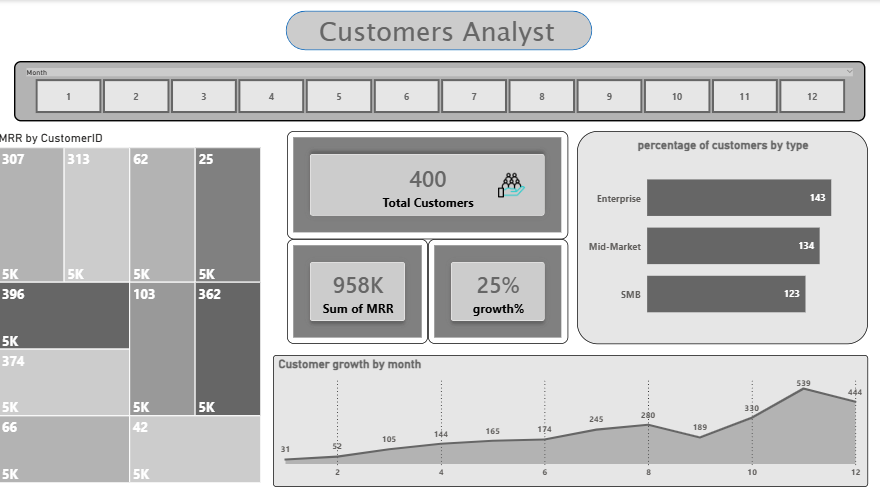

Layout of this report page (visuals, bound fields, positions):
{"tool":"powerbi","page":{"name":"Customers","canvas":[1280,720],"ordinal":1},"visuals":[{"type":"clusteredBarChart","title":"percentage of customers by type","fields":{"Category":["Customers.Segment"],"Y":["CountNonNull(Customers.Segment)"]},"box":[838.1,188.6,419,306.7],"z":0},{"type":"areaChart","title":"Customer growth by month","fields":{"Category":["Customers.Month"],"Y":["Sum(Customers.Month)"]},"box":[399.8,510.7,856.7,189.8],"z":1000},{"type":"treemap","title":"MRR by CustomerID","fields":{"Group":["Customers.CustomerID"],"Values":["Sum(Customers.MRR)"]},"box":[0,188.6,387.4,511.2],"z":2000},{"type":"slicer","fields":{"Values":["Customers.Month"]},"box":[26.9,87.3,1226.2,87.3],"z":3000},{"type":"cardVisual","fields":{"Data":["Customers.Num of customers"]},"box":[420.5,188.6,404.6,155.5],"z":4000},{"type":"cardVisual","fields":{"Data":["Customers.growth%"]},"box":[623.5,344.2,201.6,151.2],"z":5000},{"type":"cardVisual","fields":{"Data":["Sum(Customers.MRR)"]},"box":[420.5,344.2,203,151.2],"z":6000},{"type":"shape","box":[403.2,0,472.3,87.8],"z":7000},{"type":"textbox","box":[420.5,13,443.5,74.9],"z":8000},{"type":"image","box":[724.3,246.2,38.9,40.3],"z":9000}]}

Visuals, with their boxes in screenshot pixels (x1, y1, x2, y2), scaled from the page's 1280x720 canvas onto the 880x493 screenshot:
"percentage of customers by type" clusteredBarChart: select_region(576, 129, 864, 339)
"Customer growth by month" areaChart: select_region(275, 350, 864, 480)
"MRR by CustomerID" treemap: select_region(0, 129, 266, 479)
slicer - Customers.Month: select_region(18, 60, 862, 120)
cardVisual - Customers.Num of customers: select_region(289, 129, 567, 236)
cardVisual - Customers.growth%: select_region(429, 236, 567, 339)
cardVisual - Sum(Customers.MRR): select_region(289, 236, 429, 339)
shape: select_region(277, 0, 602, 60)
textbox: select_region(289, 9, 594, 60)
image: select_region(498, 169, 525, 196)
